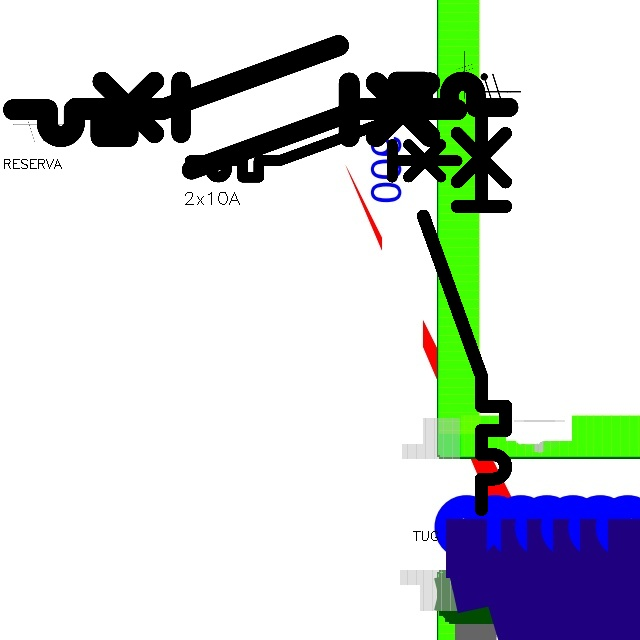interruptor_termomagnetico: (2, 34, 468, 148), (64, 70, 520, 181), (413, 98, 516, 519), (183, 115, 464, 184)
